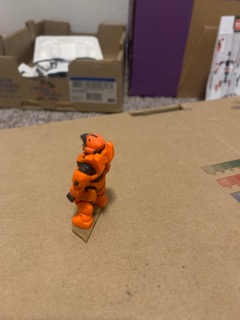soldier: (60, 132, 116, 230)
